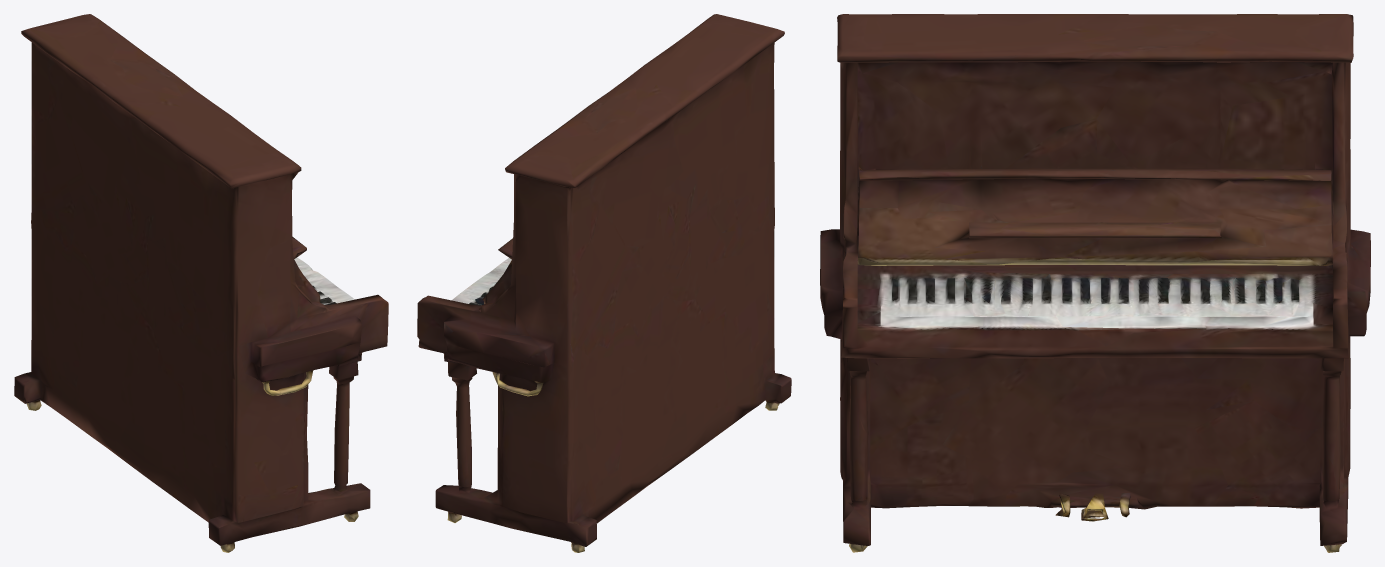
Rendered from piano-v1.glb.
3 renders of one model, left to right at view 1: azimuth 30°, elevation 25°; view 2: azimuth 150°, elevation 25°; view 3: azimuth 270°, elevation 25°, orthographic. The views are drawn at different scales.
Visible parts, largest first — view 1: prop__piano; view 2: prop__piano; view 3: prop__piano.
Boxes of the visible parts, x1,y1,x2,y2 form: prop__piano: (14,14,388,552); prop__piano: (417,14,791,552); prop__piano: (820,14,1370,552).
Bounding box in the file's own units: 0.6349 × 1.35 × 1.45.
1 material, 1 textured.
